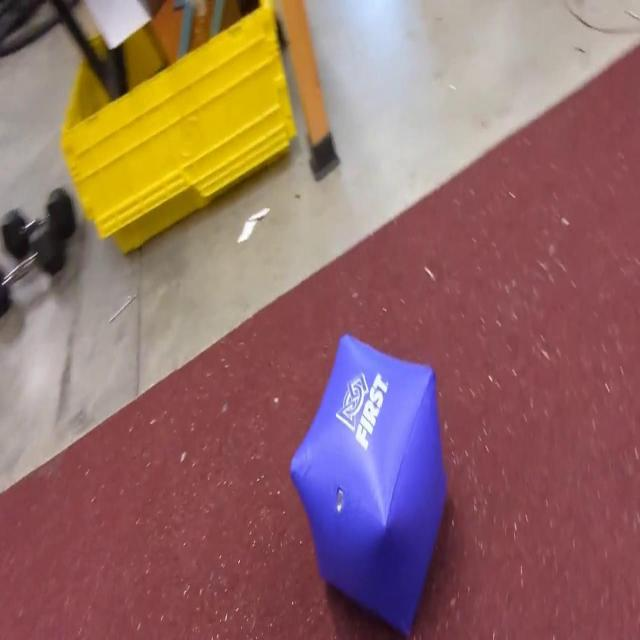frc_cube: (287, 334, 449, 636)
